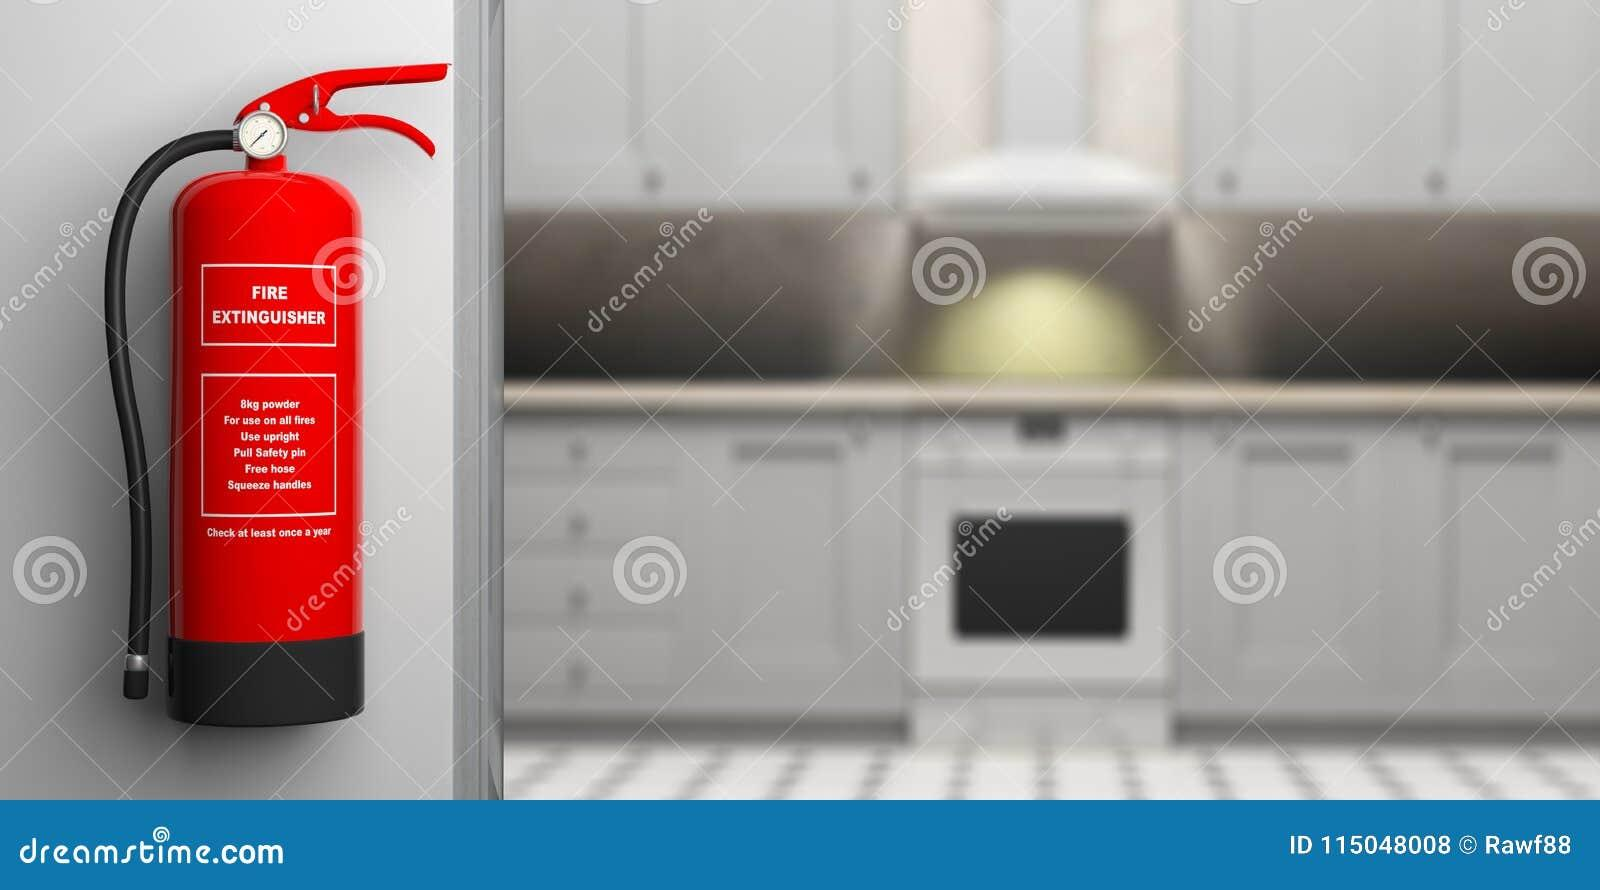wall-mounted: (56, 67, 450, 734)
